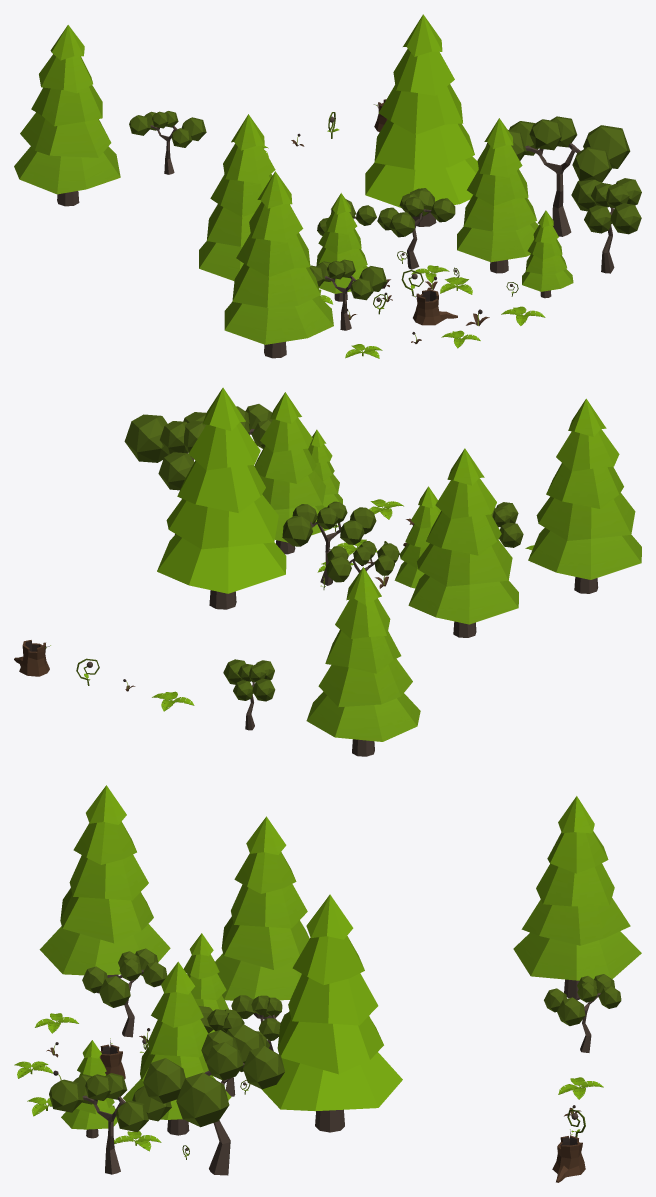
3 views of the same model, one above another, from view 1: azimuth 30°, elevation 25°; view 2: azimuth 150°, elevation 25°; view 3: azimuth 270°, elevation 25° (orthographic). The views are drawn at different scales.
Parts seen in each view (by area): view 1: tree_a.002, tree_a.001, tree_a.007, tree_a.004, tree_a.006, tree_b.002, tree_b.001, tree_a.005, tree_a.003, tree_b.004, tree_b.005, tree_b.006 (+2 smaller); view 2: tree_a.002, tree_a.001, tree_a.006, tree_a.007, tree_a.004, tree_b.002, tree_b.004, tree_a.005, tree_b.006, tree_b.003, tree_a.003, tree_b.005 (+2 smaller); view 3: tree_a.002, tree_a.007, tree_a.001, tree_a.006, tree_b.002, tree_a.004, tree_b.001, tree_b.005, tree_b.006, tree_a.005, tree_a.003, tree_b.003 (+3 smaller).
Part boxes in pixels (x1,y1,x2,y2): tree_a.002: (365, 14, 478, 226); tree_a.001: (224, 171, 333, 358); tree_a.007: (14, 25, 120, 206); tree_a.004: (457, 118, 538, 273); tree_a.006: (199, 114, 275, 280); tree_b.002: (486, 116, 630, 236); tree_b.001: (571, 178, 641, 273); tree_a.005: (316, 193, 367, 301); tree_a.003: (522, 210, 573, 298); tree_b.004: (377, 188, 455, 269); tree_b.005: (309, 259, 387, 330); tree_b.006: (129, 111, 206, 174); tree_a.002: (157, 387, 286, 609); tree_a.001: (528, 398, 641, 593); tree_a.006: (408, 448, 518, 637); tree_a.007: (306, 567, 420, 756); tree_a.004: (254, 392, 331, 554); tree_b.002: (124, 412, 206, 534); tree_b.004: (282, 501, 376, 585); tree_a.005: (394, 486, 440, 588); tree_b.006: (223, 659, 275, 730); tree_b.003: (326, 541, 399, 582); tree_a.003: (308, 429, 342, 507); tree_b.005: (491, 502, 523, 547); tree_a.002: (261, 894, 402, 1132); tree_a.007: (513, 796, 641, 998); tree_a.001: (39, 785, 170, 993); tree_a.006: (215, 816, 309, 1019); tree_b.002: (143, 1024, 284, 1175); tree_a.004: (123, 961, 231, 1135); tree_b.001: (49, 1073, 171, 1174); tree_b.005: (82, 948, 167, 1037); tree_b.006: (544, 974, 621, 1052); tree_a.005: (183, 933, 228, 1033); tree_a.003: (61, 1040, 117, 1138); tree_b.003: (231, 995, 288, 1050).
Size of the model in its own units: 4.27 by 1.93 by 4.66.
Materials: 4 (4 with a texture image).
